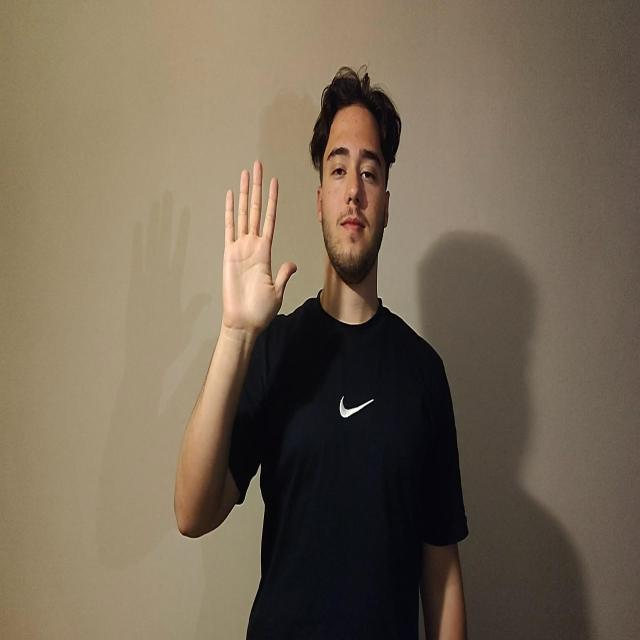hello: (221, 158, 297, 337)
